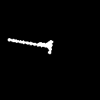half_double_crochet: (8, 38, 52, 53)
